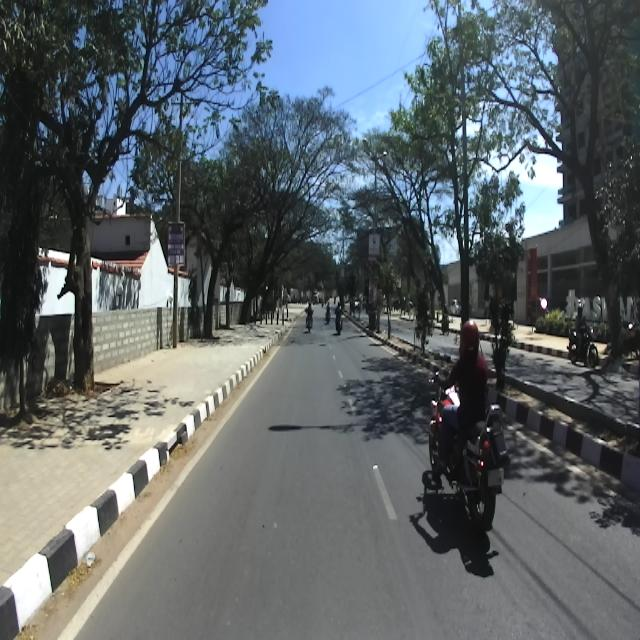electric pole ahead at: (163, 79, 197, 350)
motorcycle ahead at: (422, 372, 506, 528)
tree ahead at: (3, 4, 266, 396)
